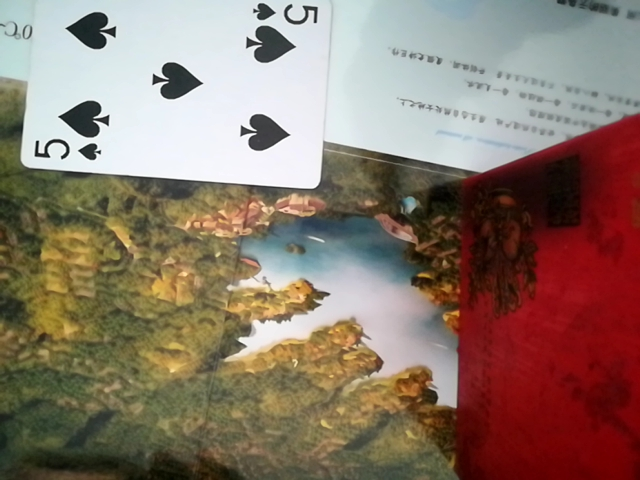ht 5: (16, 0, 330, 190)
